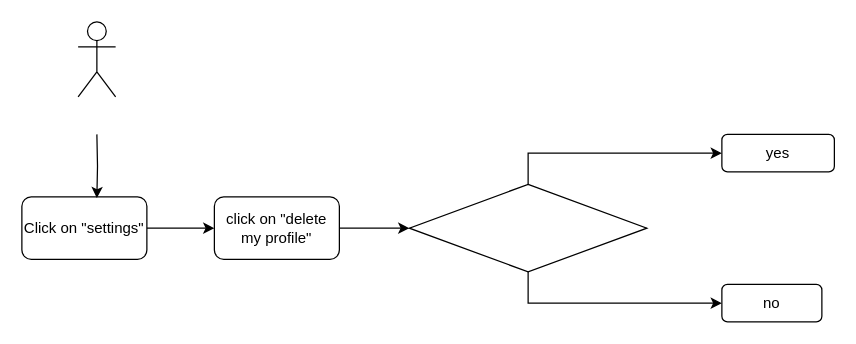
Some shapes in this 856 by 344 pixel diagram are drawn without their labels. The shapes that lost their labels are listed below. From the top down, each one's centre as x and y in pixels, then its label:
At point 96,59: "Registered User".
At point 527,227: "Are you sure you want to delete your profile?".
